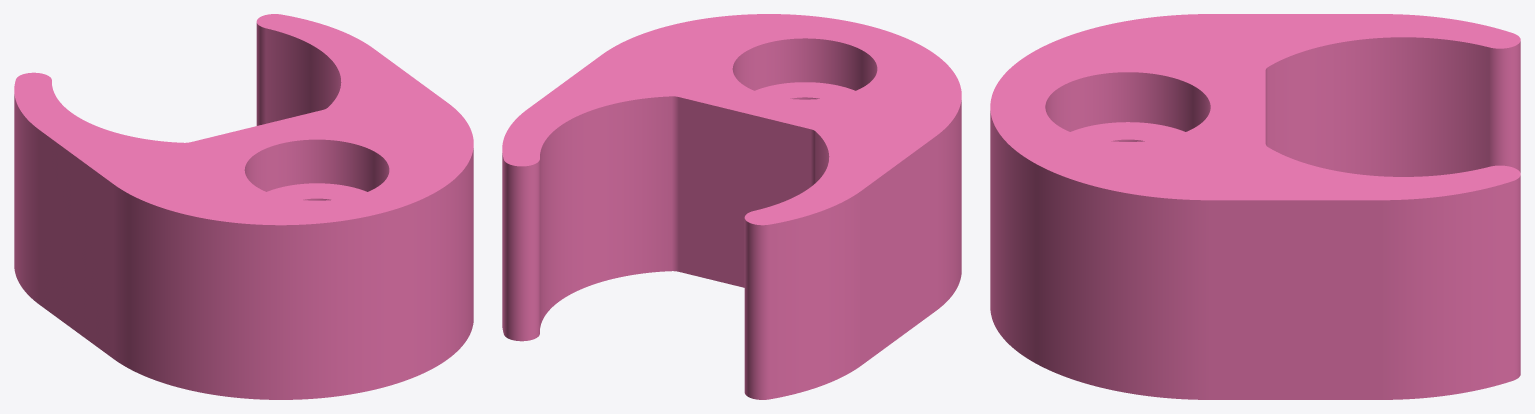
The model's file is XYZ Stage V5_Y Stage Motor Clamp V5.obj.
The picture shows the model from 3 angles, left to right: view 1: azimuth 30°, elevation 25°; view 2: azimuth 150°, elevation 25°; view 3: azimuth 270°, elevation 25°; orthographic projection. The views are drawn at different scales.
Parts seen in each view (by area): view 1: Solid1:8; view 2: Solid1:8; view 3: Solid1:8.
Boxes of the visible parts, x1,y1,x2,y2 form: Solid1:8: (14, 14, 473, 399); Solid1:8: (502, 14, 961, 399); Solid1:8: (990, 14, 1520, 399).
Bounding box in the file's own units: 16 × 8 × 19.25.
